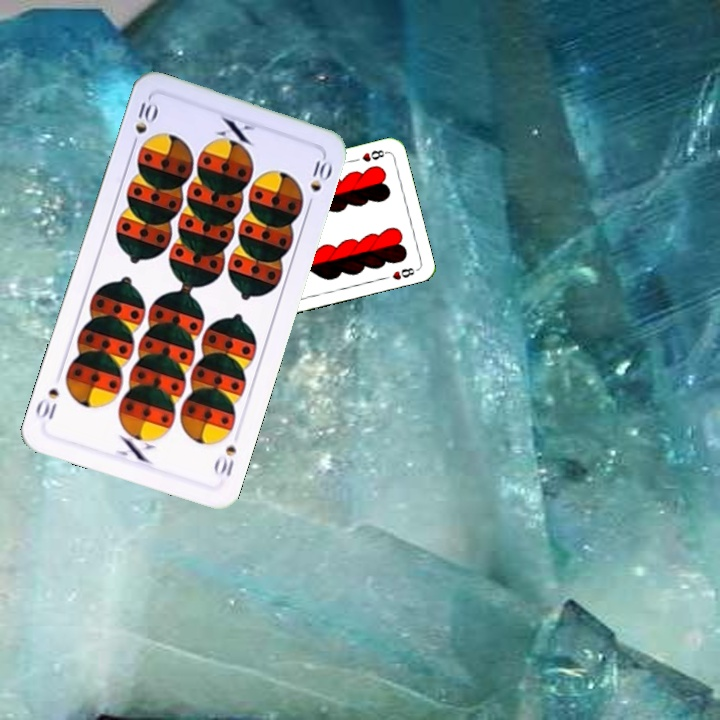H8: (358, 146, 390, 164)
S10: (127, 98, 160, 152), (210, 441, 239, 480)
